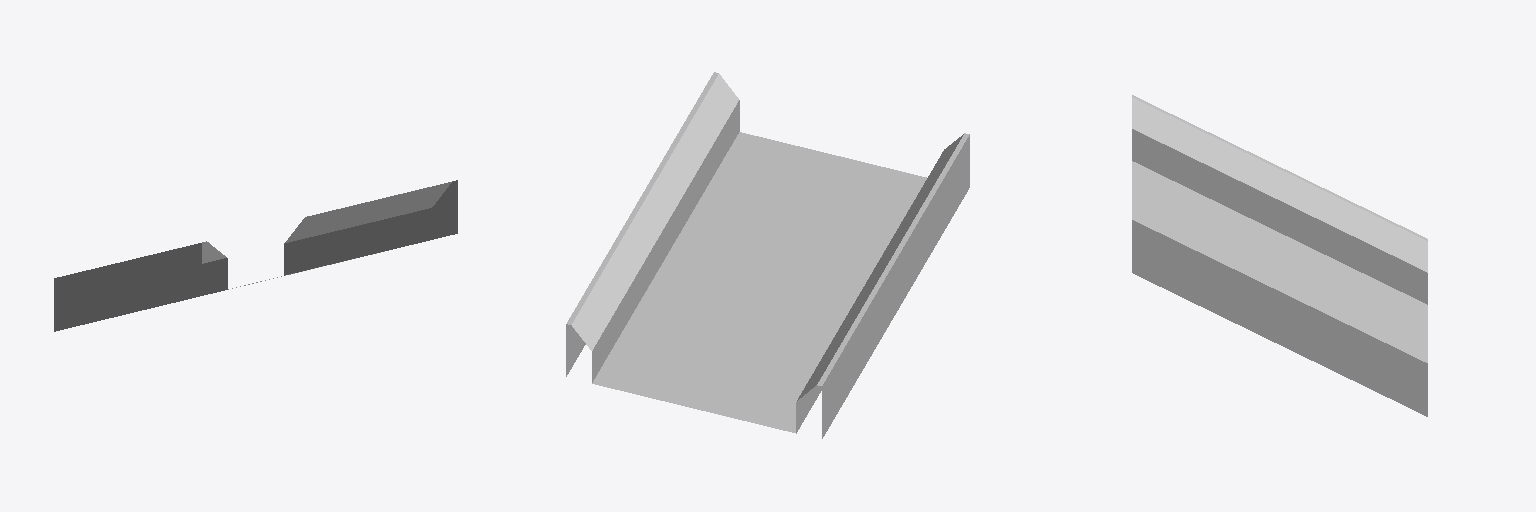
Rendered from trackpiece3.obj.
The picture shows the model from 3 angles: view 1: azimuth 30°, elevation 25°; view 2: azimuth 150°, elevation 25°; view 3: azimuth 270°, elevation 25°; orthographic projection.
Visible parts, largest first — view 1: Plane.007_Plane.001; view 2: Plane.007_Plane.001; view 3: Plane.007_Plane.001.
Boxes of the visible parts, <box> form: Plane.007_Plane.001: <box>54,180,457,331</box>; Plane.007_Plane.001: <box>566,72,969,438</box>; Plane.007_Plane.001: <box>1132,95,1427,416</box>.
Bounding box in the file's own units: 1 × 0.7372 × 1.